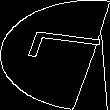L_E: (9, 34, 101, 76)
